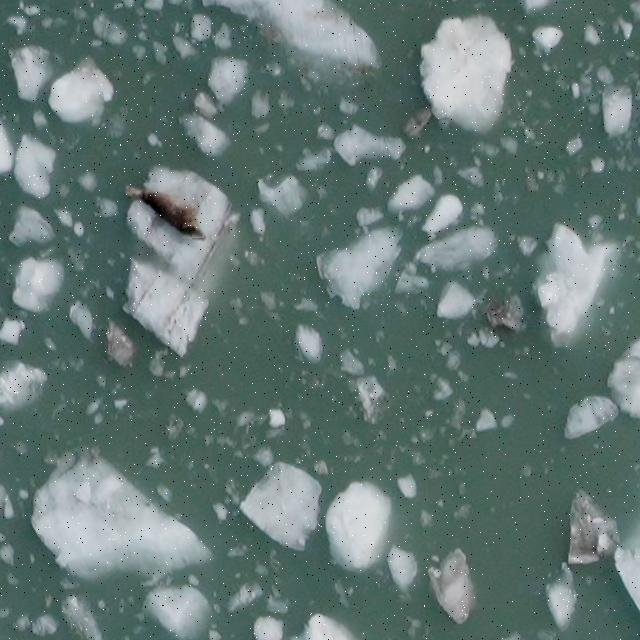seal: (125, 184, 205, 239)
